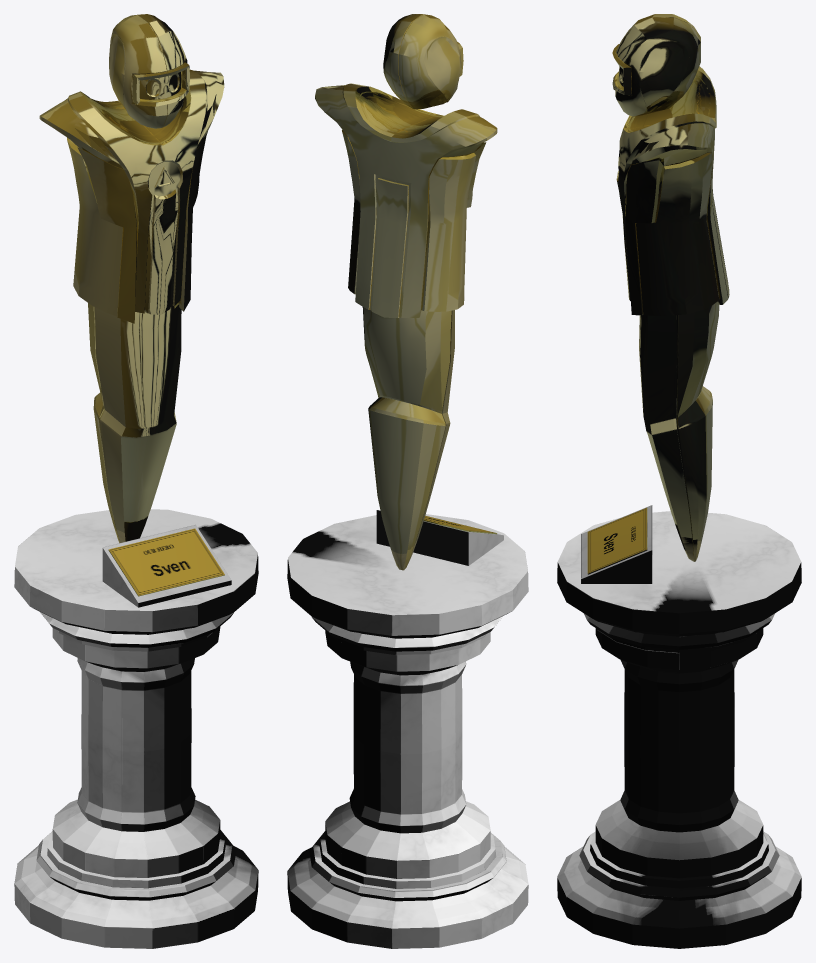
The model's file is goldstatue3.obj.
3 views of the same model, side by side, from view 1: azimuth 30°, elevation 25°; view 2: azimuth 150°, elevation 25°; view 3: azimuth 270°, elevation 25° (orthographic).
Parts seen in each view (by area): view 1: Cylinder_Cylinder.003, Body, Plane, Cube_Cube.001; view 2: Cylinder_Cylinder.003, Body, Cube_Cube.001; view 3: Cylinder_Cylinder.003, Body, Plane, Cube_Cube.001.
Part boxes in pixels (<box>): Cylinder_Cylinder.003: <box>14,509,258,948</box>; Body: <box>39,14,224,543</box>; Plane: <box>108,528,224,596</box>; Cube_Cube.001: <box>102,524,231,607</box>; Cylinder_Cylinder.003: <box>287,514,528,948</box>; Body: <box>315,14,497,570</box>; Cube_Cube.001: <box>376,510,503,565</box>; Cylinder_Cylinder.003: <box>557,511,801,948</box>; Body: <box>612,14,729,561</box>; Plane: <box>587,507,647,574</box>; Cube_Cube.001: <box>581,505,652,583</box>.
Bounding box in the file's own units: 1.83 × 7.27 × 1.83.
Materials: 4 (4 with a texture image).
